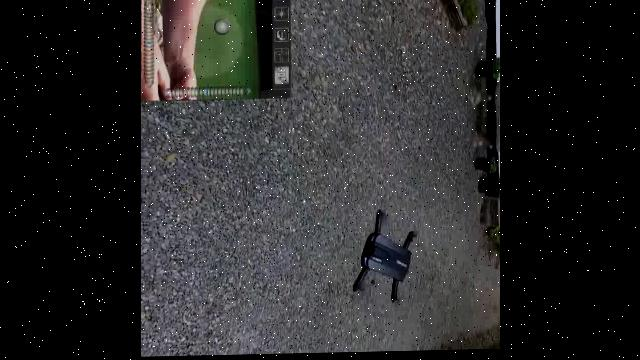drone: (140, 0, 149, 358)
